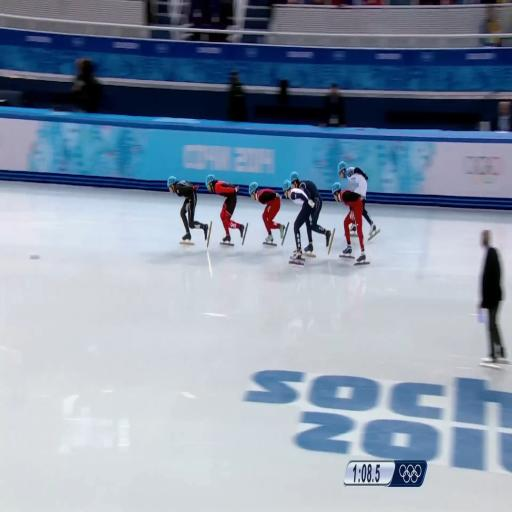Skater: (338, 162, 379, 240), (290, 172, 331, 246), (168, 176, 211, 244), (206, 174, 247, 245), (332, 183, 367, 264), (283, 181, 314, 265), (249, 182, 287, 246)
